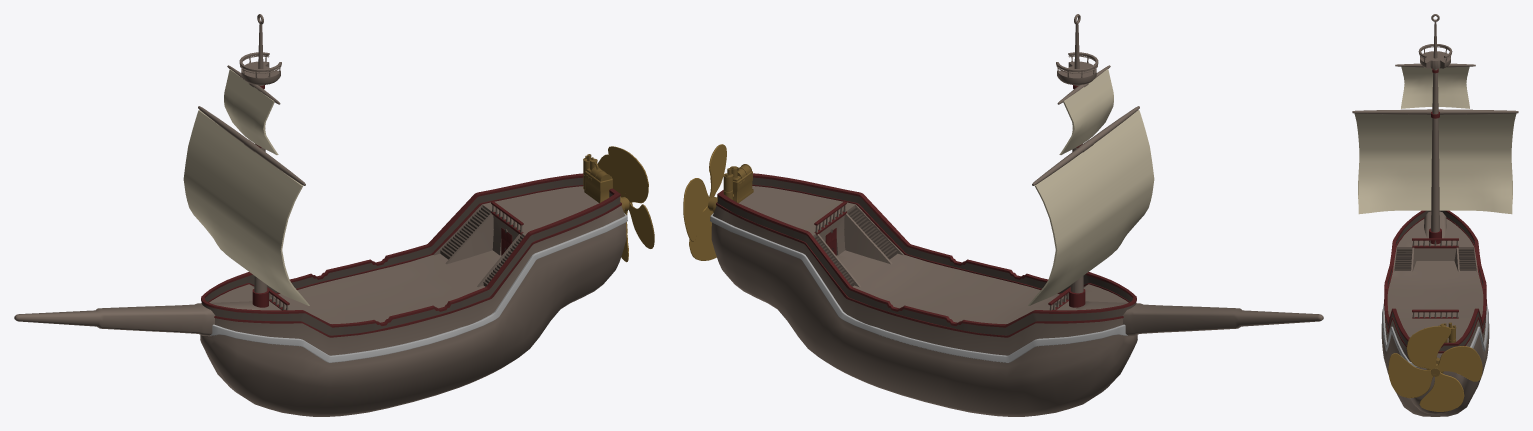
Rendered from Broken_Ship_3.fbx.
3 views of the same model, side by side, from view 1: azimuth 30°, elevation 25°; view 2: azimuth 150°, elevation 25°; view 3: azimuth 270°, elevation 25° (orthographic). The views are drawn at different scales.
Parts seen in each view (by area): view 1: Broken_Ship_3; view 2: Broken_Ship_3; view 3: Broken_Ship_3.
Boxes of the visible parts, bbox=[...] form: Broken_Ship_3: bbox=[14, 14, 654, 416]; Broken_Ship_3: bbox=[683, 14, 1323, 416]; Broken_Ship_3: bbox=[1352, 14, 1518, 416].
Size of the model in its own units: 22.61 by 14.49 by 6.77.
